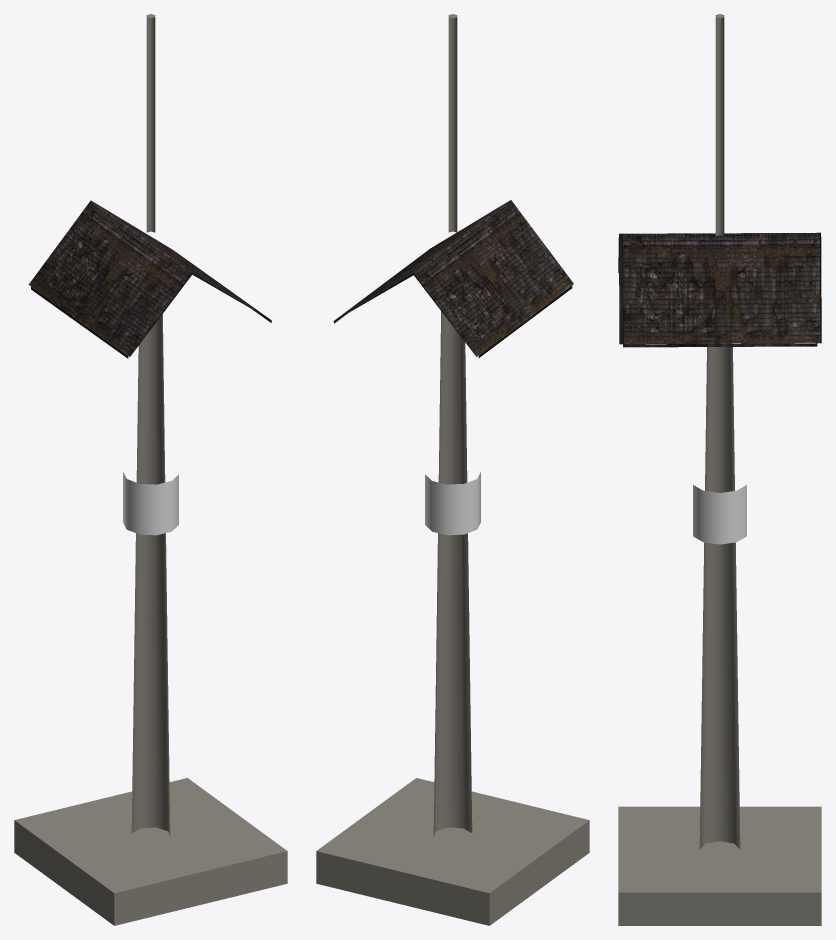
3 views of the same model, side by side, from view 1: azimuth 30°, elevation 25°; view 2: azimuth 150°, elevation 25°; view 3: azimuth 270°, elevation 25° (orthographic).
Visible parts, largest first — view 1: dweller_building_beacon; view 2: dweller_building_beacon; view 3: dweller_building_beacon.
Part boxes in pixels (x1,y1,x2,y2): dweller_building_beacon: [14, 14, 287, 925]; dweller_building_beacon: [316, 14, 589, 925]; dweller_building_beacon: [618, 14, 821, 925].
Size of the model in its own units: 1 by 4.7 by 1.
3 materials, 1 textured.
